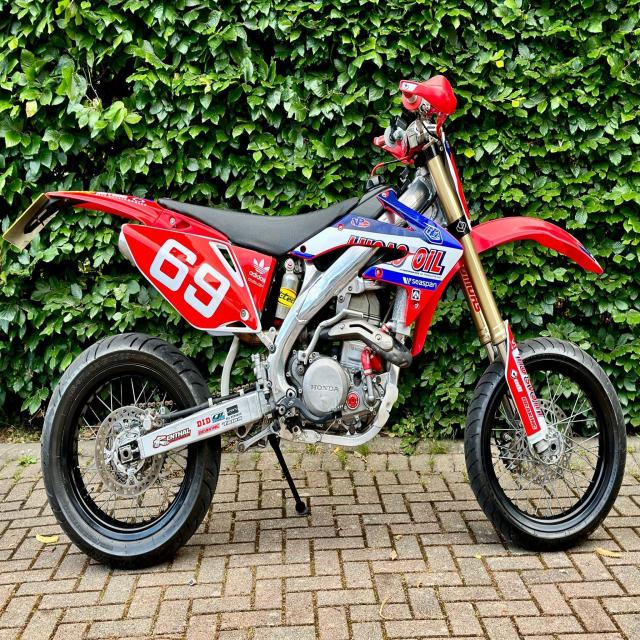Motorcycle: (3, 74, 627, 566)
